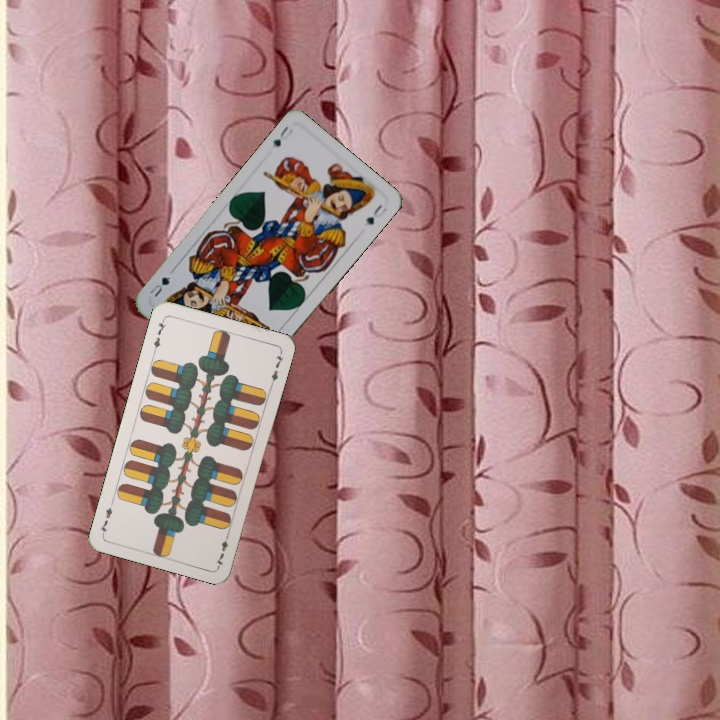E7: (211, 529, 232, 569), (149, 315, 169, 355)
GU: (268, 122, 295, 149)
